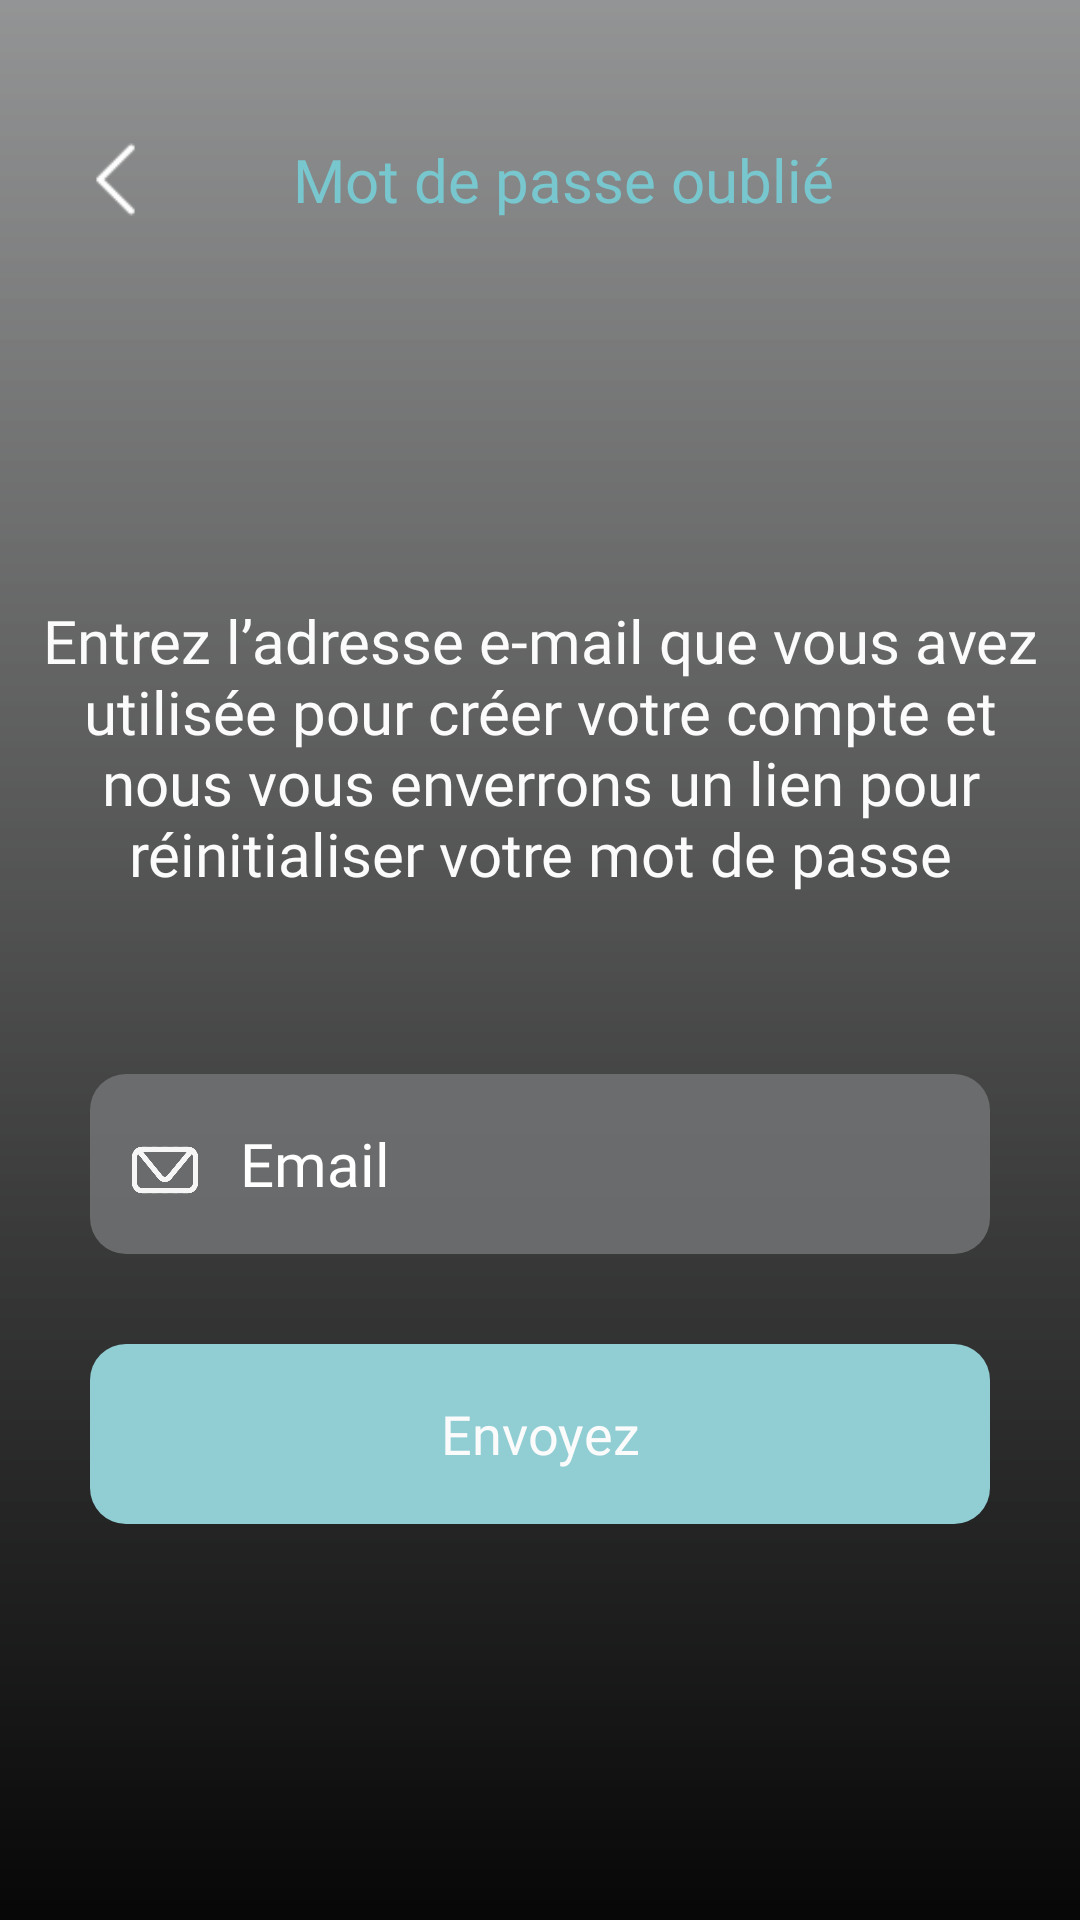

Named icons in this screenshot (1080*1920) and their centers, (x=x, y=y):
blackback: (x=115, y=179)
